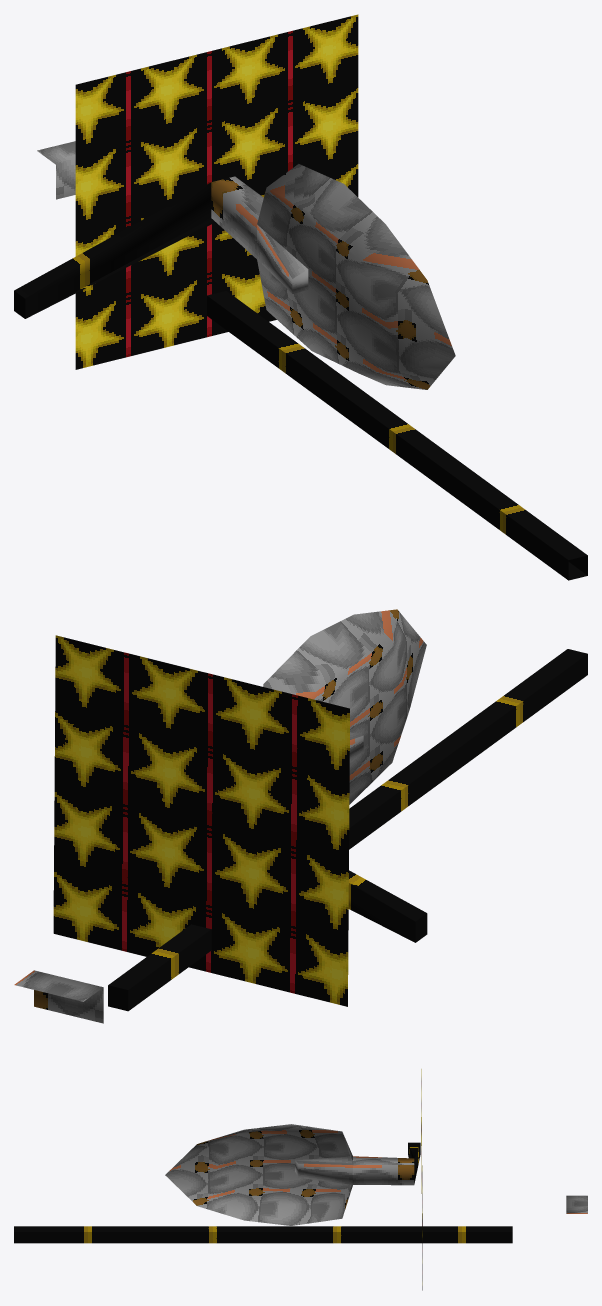
Rendered from 00_01_stick.gltf.
The picture shows the model from 3 angles, top to bottom: view 1: azimuth 30°, elevation 25°; view 2: azimuth 150°, elevation 25°; view 3: azimuth 270°, elevation 25°; orthographic projection. The views are drawn at different scales.
Parts seen in each view (by area): view 1: 00_01_stick; view 2: 00_01_stick; view 3: 00_01_stick.
Part boxes in pixels (x1,y1,x2,y2): 00_01_stick: [14, 14, 587, 580]; 00_01_stick: [14, 609, 587, 1023]; 00_01_stick: [14, 1069, 587, 1290].
Bounding box in the file's own units: 0.4429 × 0.3516 × 1.13.
Materials: 3 (3 with a texture image).
